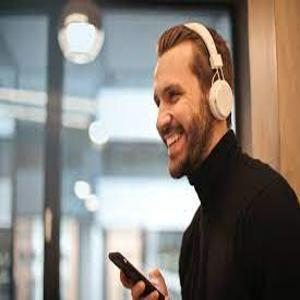Headphones: (151, 20, 235, 127)
